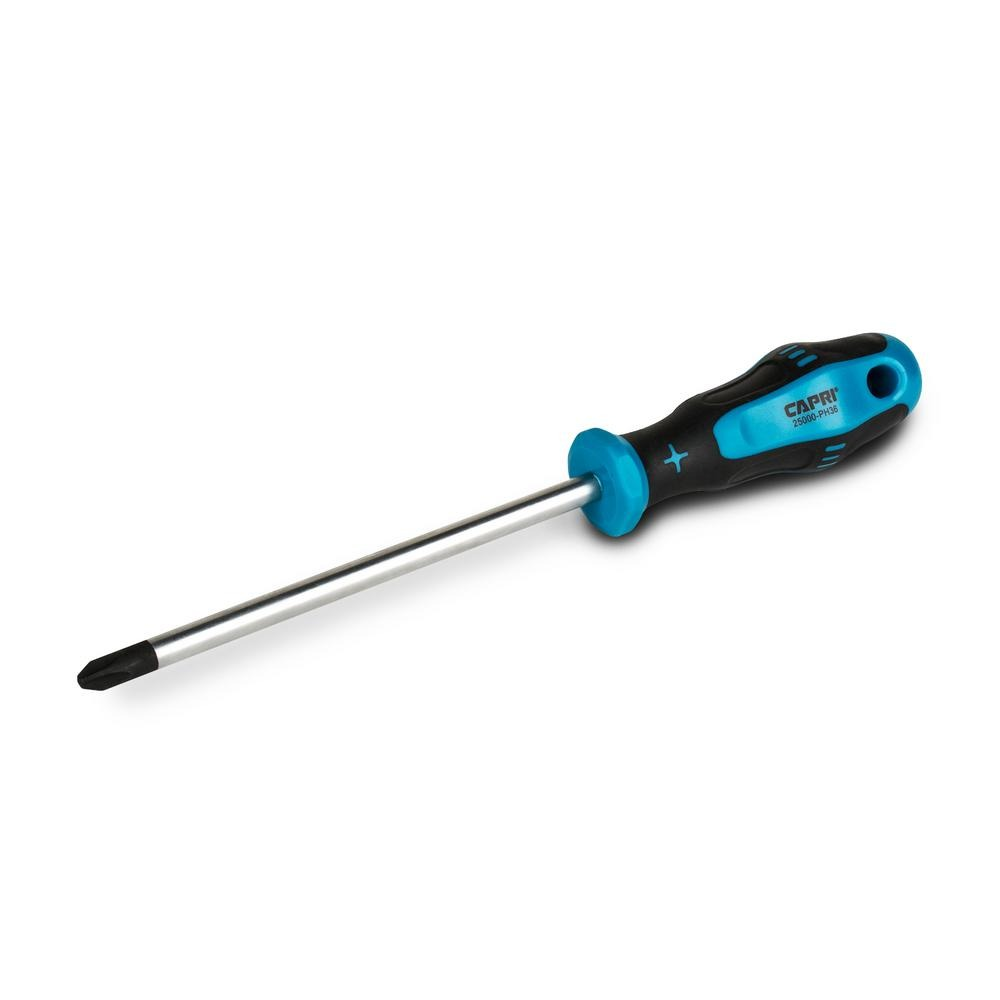screwdriver: (68, 326, 926, 690)
